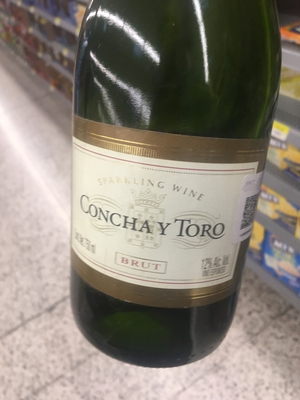brut: (66, 1, 280, 350)
